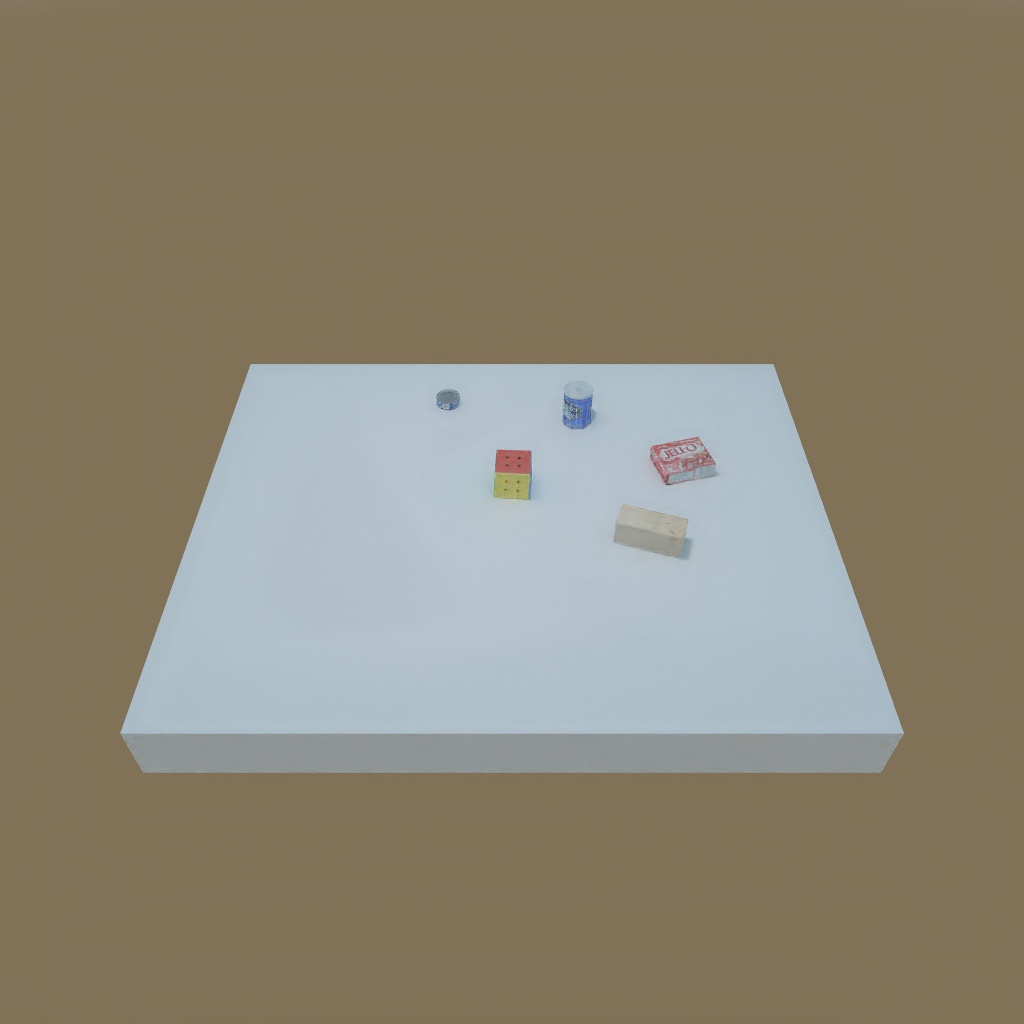gelatin_box: (647, 439, 720, 481)
master_chef_can: (557, 384, 597, 434)
rubiks_cube: (491, 446, 533, 502)
wood_block: (610, 505, 692, 559)
